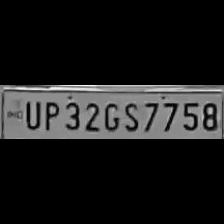2: (81, 98, 99, 132)
3: (61, 98, 80, 132)
5: (179, 98, 199, 132)
7: (140, 99, 158, 133), (158, 99, 176, 133)
8: (200, 98, 218, 132)
G: (101, 100, 119, 132)
P: (42, 98, 58, 132)
S: (120, 99, 140, 133)
U: (22, 99, 41, 131)
